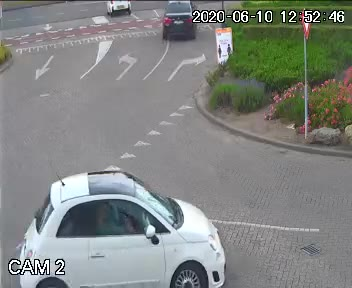car: (13, 166, 227, 288), (157, 0, 199, 44), (102, 0, 132, 18)
